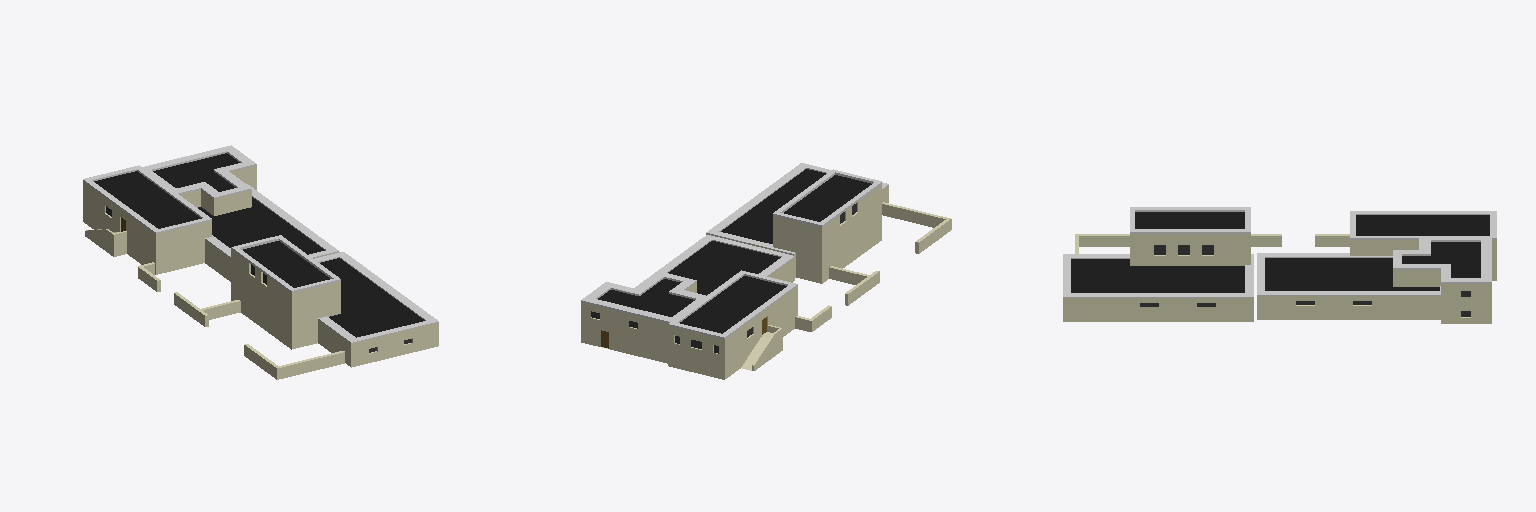
File: house8.obj
The picture shows the model from 3 angles: view 1: azimuth 30°, elevation 25°; view 2: azimuth 150°, elevation 25°; view 3: azimuth 270°, elevation 25°; orthographic projection.
Parts seen in each view (by area): view 1: unnamed_object1; view 2: unnamed_object1; view 3: unnamed_object1.
Part boxes in pixels (bbox=[...]): unnamed_object1: bbox=[83, 145, 438, 379]; unnamed_object1: bbox=[581, 163, 951, 379]; unnamed_object1: bbox=[1063, 207, 1496, 323].
Size of the model in its own units: 13.91 by 4.8 by 32.16.